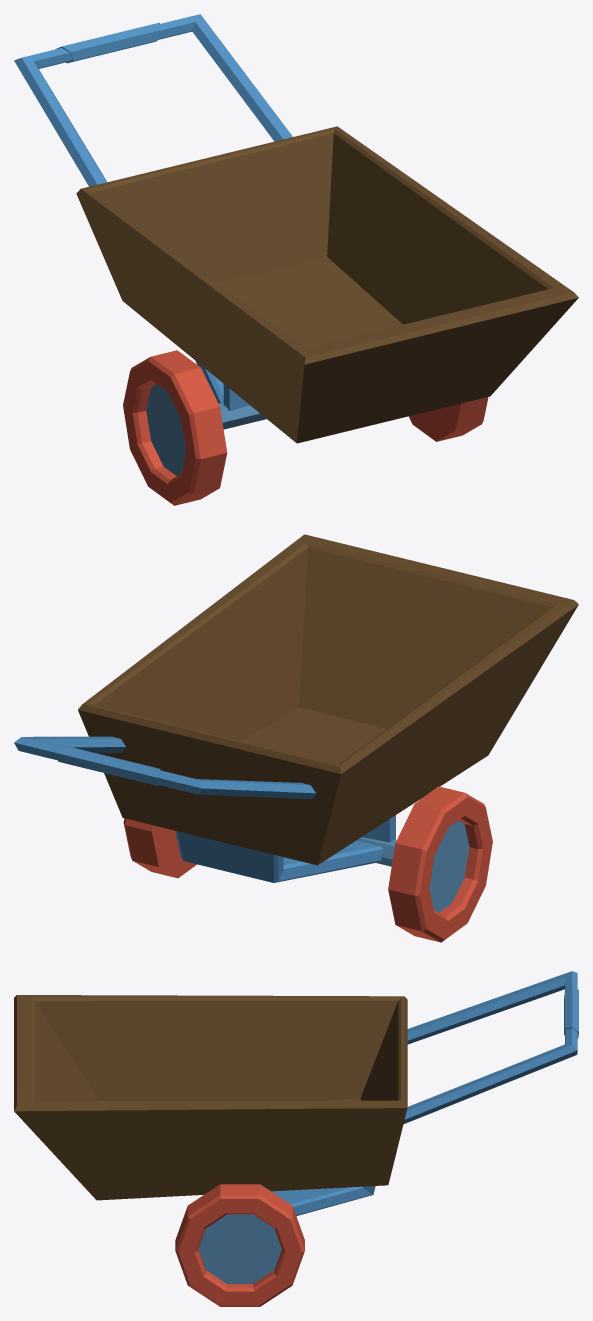
File: cart_b.gltf
3 views of the same model, one above another, from view 1: azimuth 30°, elevation 25°; view 2: azimuth 150°, elevation 25°; view 3: azimuth 270°, elevation 25° (orthographic). The views are drawn at different scales.
Visible parts, largest first — view 1: body, wheel_3, wheel_0, wheel_4; view 2: body, wheel_3, wheel_0, wheel_4; view 3: body, wheel_5, wheel_1.
Boxes of the visible parts, x1,y1,x2,y2 form: body: (14,14,578,505); wheel_3: (123,361,195,502); wheel_0: (146,384,186,475); wheel_4: (409,403,460,441); body: (14,534,578,942); wheel_3: (419,797,492,939); wheel_0: (429,820,469,912); wheel_4: (151,825,196,878); body: (14,971,578,1306); wheel_5: (178,1199,301,1305); wheel_1: (198,1214,281,1283).
Bounding box in the file's own units: 0.8258 × 0.76 × 1.62.
1 material, 1 textured.
